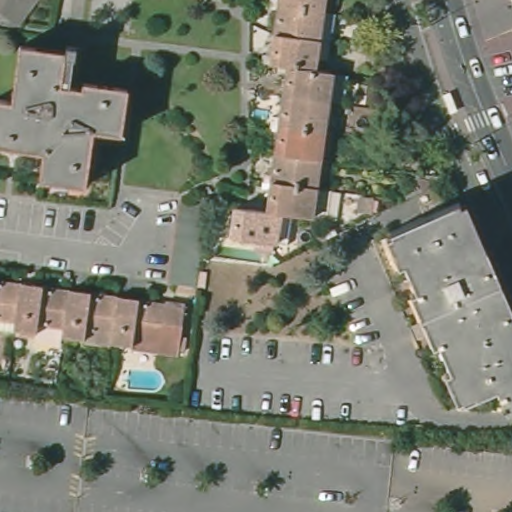pool: (119, 364, 167, 393), (249, 105, 273, 124)
